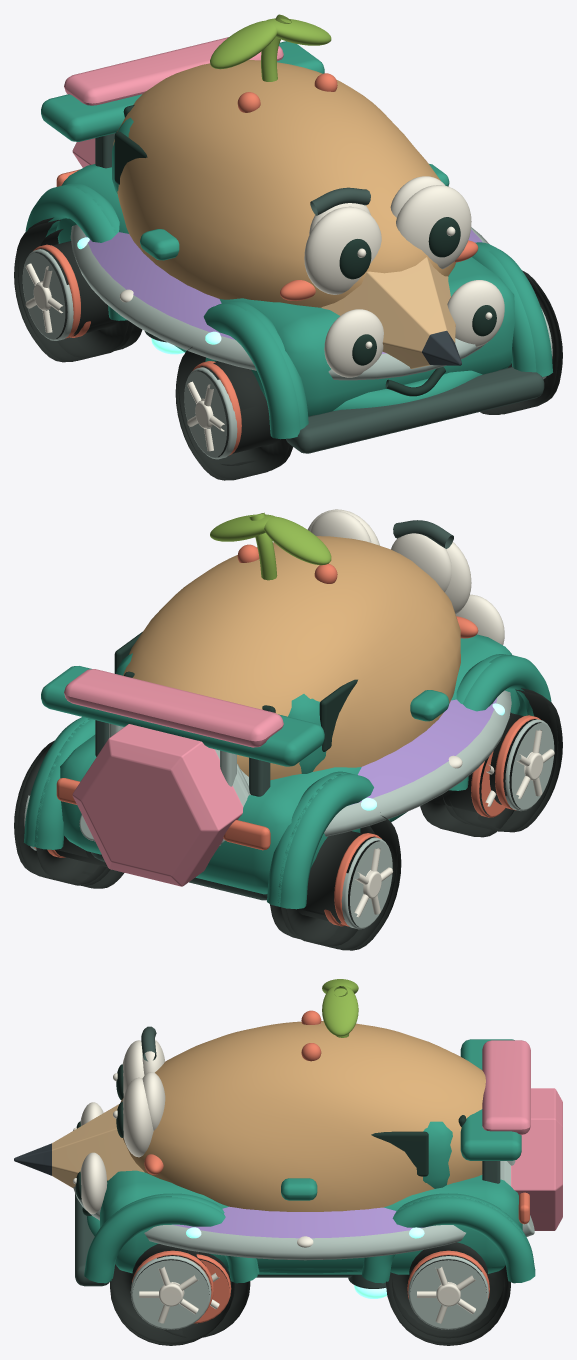
File: fleet-v3.glb
The picture shows the model from 3 angles, top to bottom: view 1: azimuth 30°, elevation 25°; view 2: azimuth 150°, elevation 25°; view 3: azimuth 270°, elevation 25°; orthographic projection. The views are drawn at different scales.
Parts seen in each view (by area): view 1: Sculpted_Potato_Skin.001, Saucer_continuous_hull, GT_monocoque, Pencil_continuous_body, Front_splitter, Sculpted_wheel_arch.004, Eraser_spoiler, Rounded_rubber_tire.008, Eye_white.002, Ducktail_wing, Eye_white.003, Rounded_rubber_tire.009 (+31 smaller); view 2: Sculpted_Potato_Skin.001, Pencil_continuous_body, Saucer_continuous_hull, GT_monocoque, Eraser_spoiler, Ducktail_wing, Sculpted_wheel_arch.005, Rounded_rubber_tire.005, Sculpted_wheel_arch.004, Rounded_rubber_tire.009, Sculpted_wheel_arch.003, Recessed_alloy.009 (+28 smaller); view 3: Sculpted_Potato_Skin.001, Saucer_continuous_hull, Pencil_continuous_body, GT_monocoque, Sculpted_wheel_arch.007, Sculpted_wheel_arch.006, Eraser_spoiler, Recessed_alloy.011, Recessed_alloy.010, Rounded_rubber_tire.011, Ducktail_wing, Rounded_rubber_tire.010 (+21 smaller).
Boxes of the visible parts, x1,y1,x2,y2 form: Sculpted_Potato_Skin.001: [113, 60, 455, 307]; Saucer_continuous_hull: [70, 224, 488, 380]; GT_monocoque: [56, 164, 515, 416]; Pencil_continuous_body: [72, 138, 461, 368]; Front_splitter: [286, 367, 544, 453]; Sculpted_wheel_arch.004: [203, 304, 300, 439]; Eraser_spoiler: [64, 37, 283, 105]; Rounded_rubber_tire.008: [175, 347, 289, 480]; Eye_white.002: [304, 206, 381, 294]; Ducktail_wing: [41, 41, 324, 141]; Eye_white.003: [396, 185, 471, 269]; Rounded_rubber_tire.009: [14, 219, 128, 362]; Sculpted_Potato_Skin.001: [123, 536, 460, 780]; Pencil_continuous_body: [72, 724, 248, 886]; Saucer_continuous_hull: [219, 690, 511, 845]; GT_monocoque: [60, 634, 519, 894]; Eraser_spoiler: [64, 669, 283, 747]; Ducktail_wing: [41, 666, 324, 766]; Sculpted_wheel_arch.005: [278, 773, 389, 909]; Rounded_rubber_tire.005: [281, 812, 397, 949]; Sculpted_wheel_arch.004: [449, 655, 551, 790]; Rounded_rubber_tire.009: [286, 815, 401, 950]; Sculpted_wheel_arch.003: [34, 718, 95, 849]; Recessed_alloy.009: [341, 837, 392, 929]; Sculpted_Potato_Skin.001: [121, 1021, 485, 1211]; Saucer_continuous_hull: [73, 1186, 465, 1260]; Pencil_continuous_body: [14, 1088, 562, 1230]; GT_monocoque: [100, 1170, 522, 1274]; Sculpted_wheel_arch.007: [362, 1196, 535, 1283]; Sculpted_wheel_arch.006: [84, 1196, 257, 1283]; Eraser_spoiler: [482, 1040, 530, 1135]; Recessed_alloy.011: [408, 1256, 488, 1329]; Recessed_alloy.010: [130, 1256, 211, 1329]; Rounded_rubber_tire.011: [387, 1259, 509, 1345]; Ducktail_wing: [460, 1039, 521, 1160]; Rounded_rubber_tire.010: [110, 1259, 231, 1345].
Bounding box in the file's own units: 2.26 × 2.16 × 3.6.
